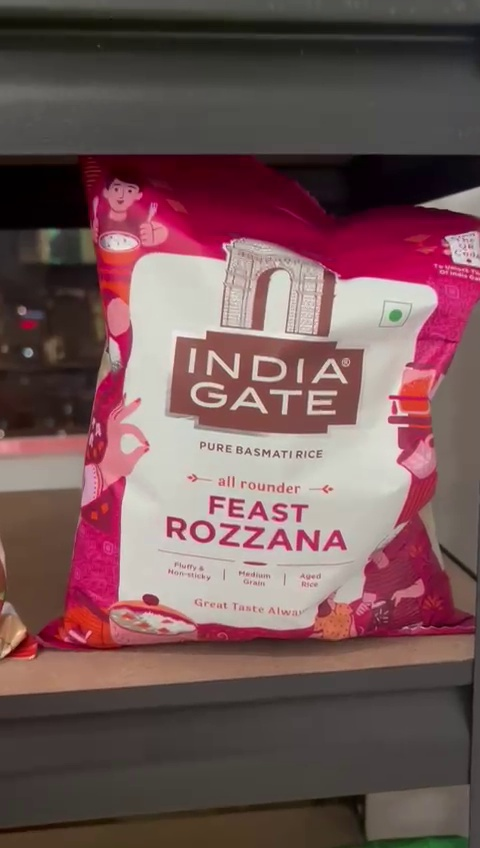India Gate Feast Rozzana: (76, 158, 480, 641)
